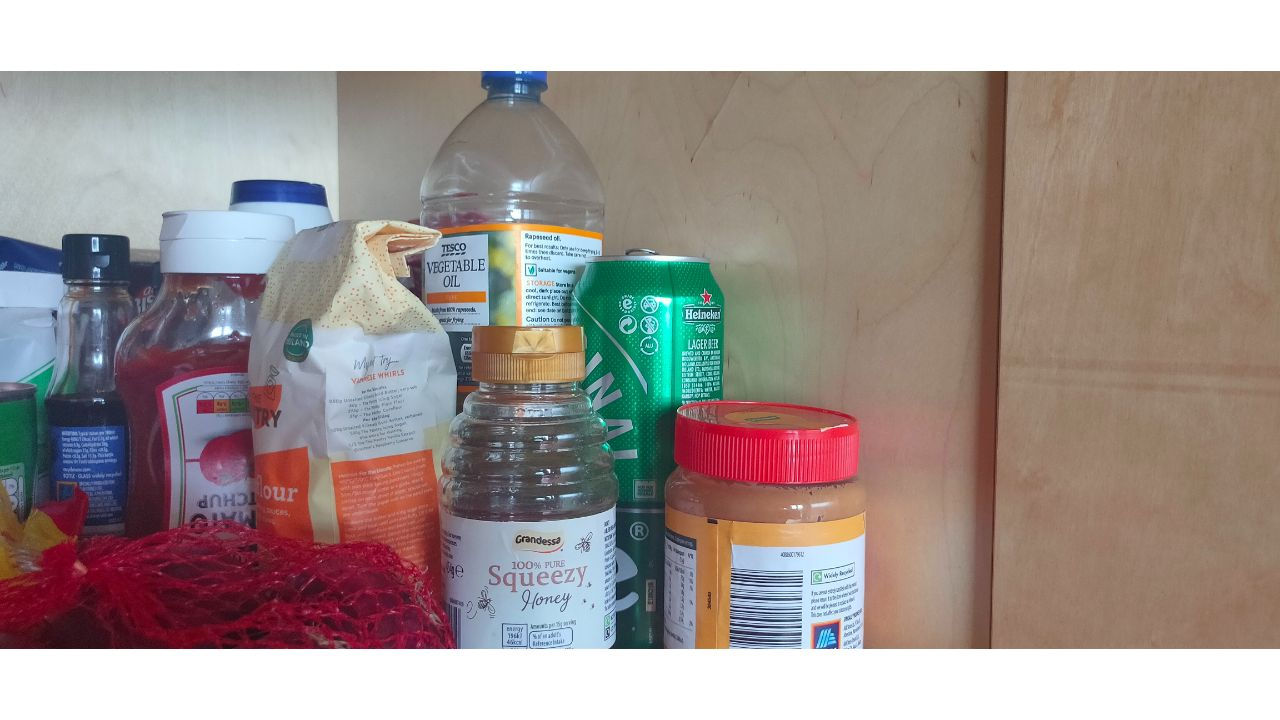Can: (566, 250, 727, 644)
